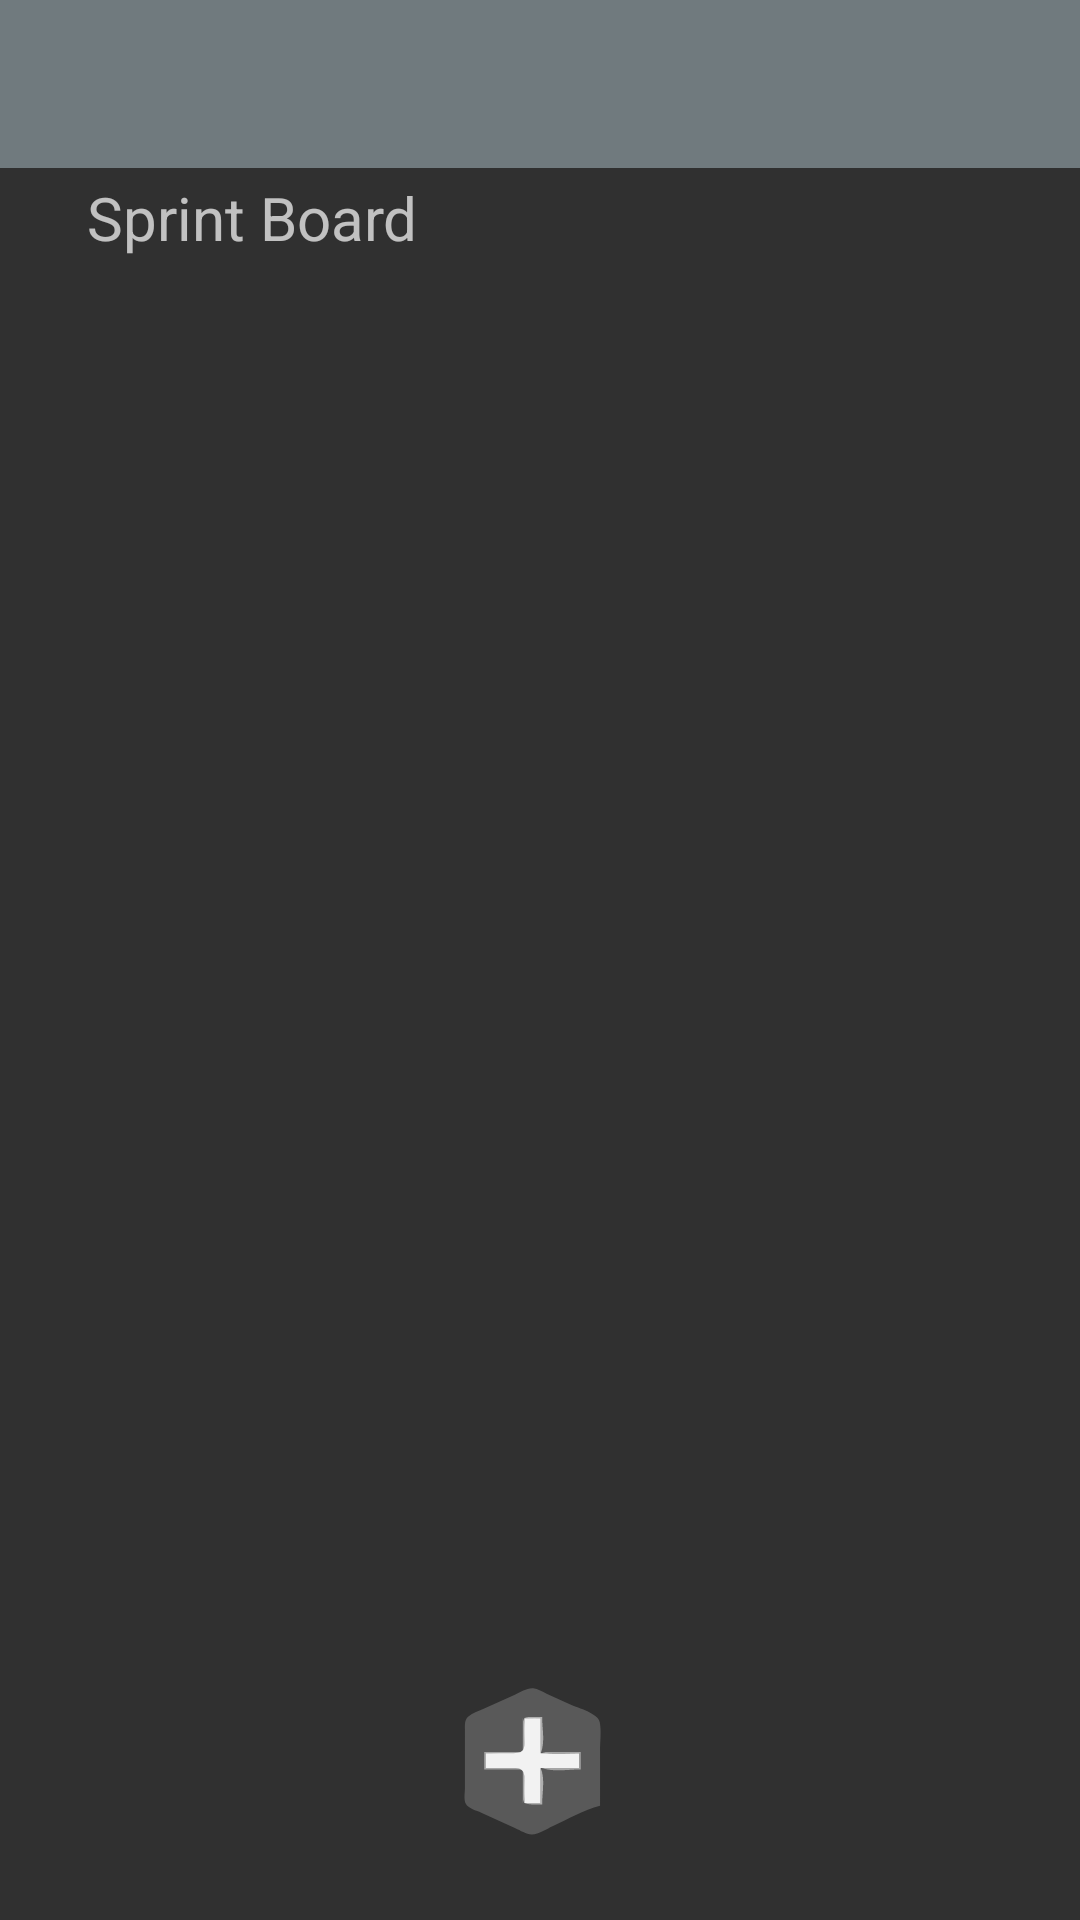

Point at icon controls on the screen. Image size 1080 x 1920, points as point (x, y).
add sprint: point (532, 1761)
